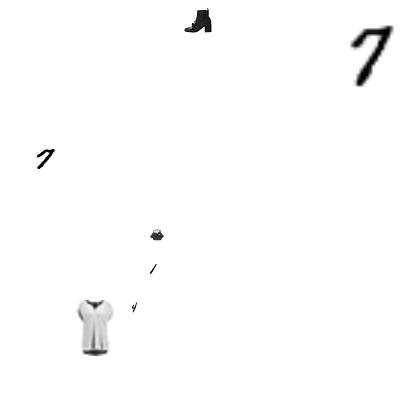1: (146, 262, 160, 276)
4: (127, 300, 141, 314)
7: (327, 8, 411, 92), (31, 143, 59, 171)
Ankle_boot: (184, 6, 212, 34)
Coat: (150, 228, 164, 242)
T-shirt/top: (67, 300, 123, 356)
